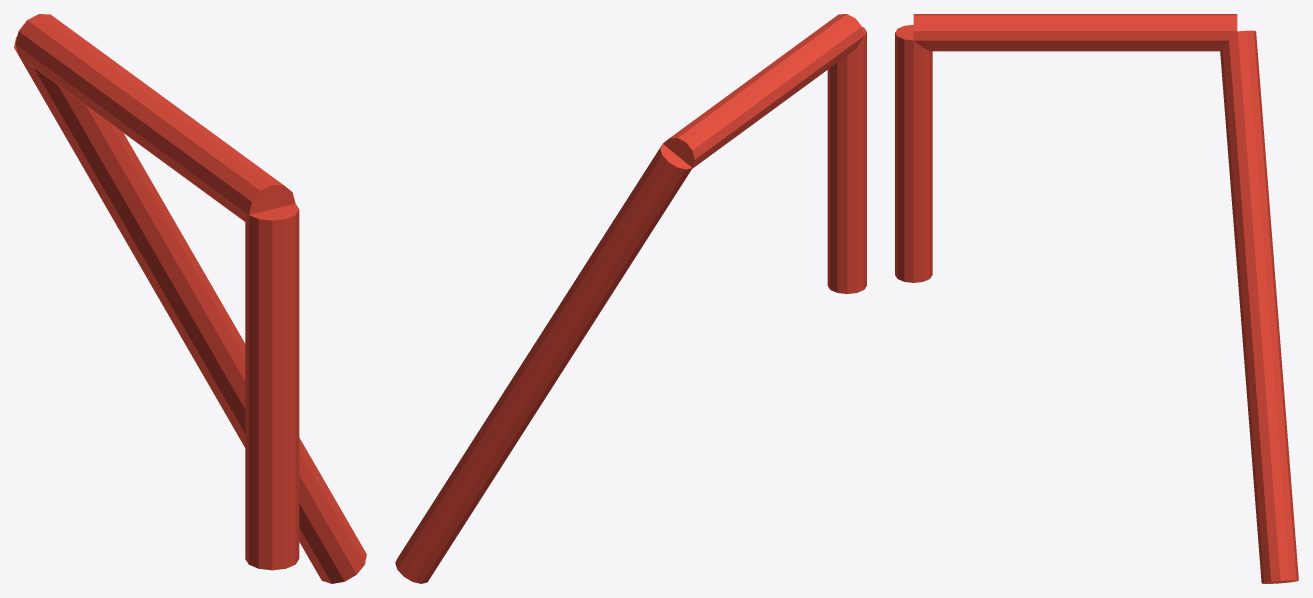
Rendered from battery-positive.glb.
3 views of the same model, side by side, from view 1: azimuth 30°, elevation 25°; view 2: azimuth 150°, elevation 25°; view 3: azimuth 270°, elevation 25° (orthographic). The views are drawn at different scales.
Parts seen in each view (by area): view 1: battery-positive; view 2: battery-positive; view 3: battery-positive.
Boxes of the visible parts, bbox=[...] form: battery-positive: bbox=[14, 14, 366, 583]; battery-positive: bbox=[395, 14, 866, 583]; battery-positive: bbox=[895, 14, 1298, 583].
Bounding box in the file's own units: 5.66 × 9.52 × 7.55.
